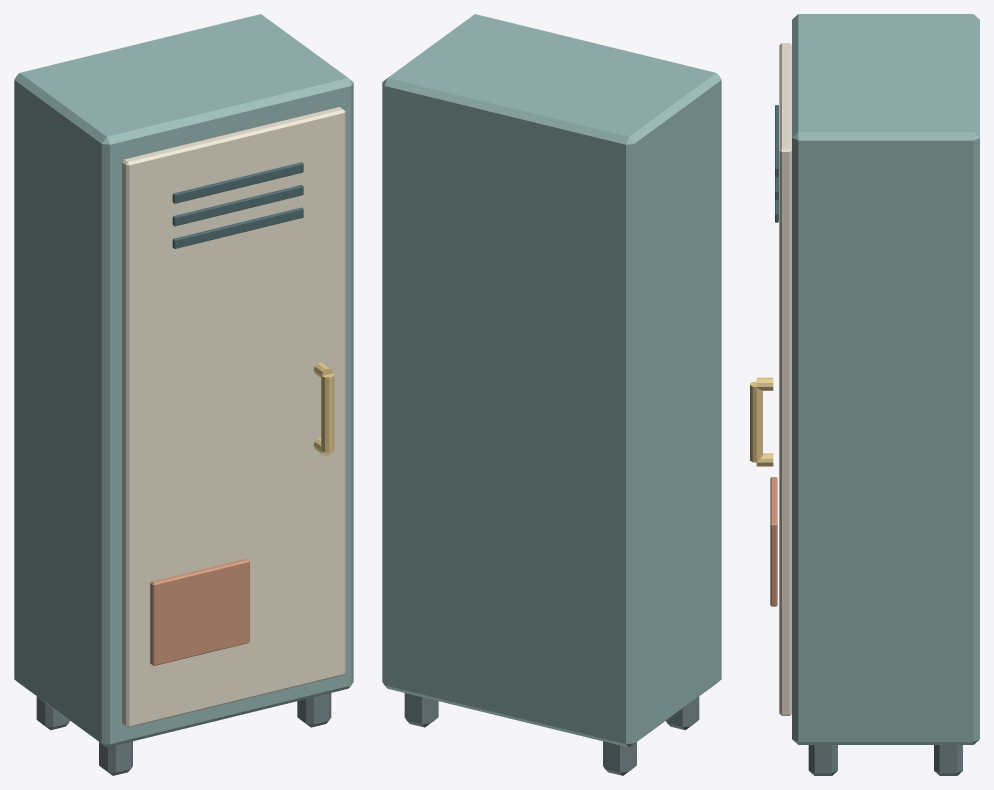
Rendered from salvage_locker.glb.
3 views of the same model, side by side, from view 1: azimuth 30°, elevation 25°; view 2: azimuth 150°, elevation 25°; view 3: azimuth 270°, elevation 25° (orthographic).
Parts seen in each view (by area): view 1: salvage_locker; view 2: salvage_locker; view 3: salvage_locker.
Boxes of the visible parts, bbox=[...] form: salvage_locker: bbox=[14, 14, 353, 775]; salvage_locker: bbox=[382, 14, 721, 775]; salvage_locker: bbox=[750, 14, 979, 775].
Bounding box in the file's own units: 0.7 × 1.72 × 0.5502.
